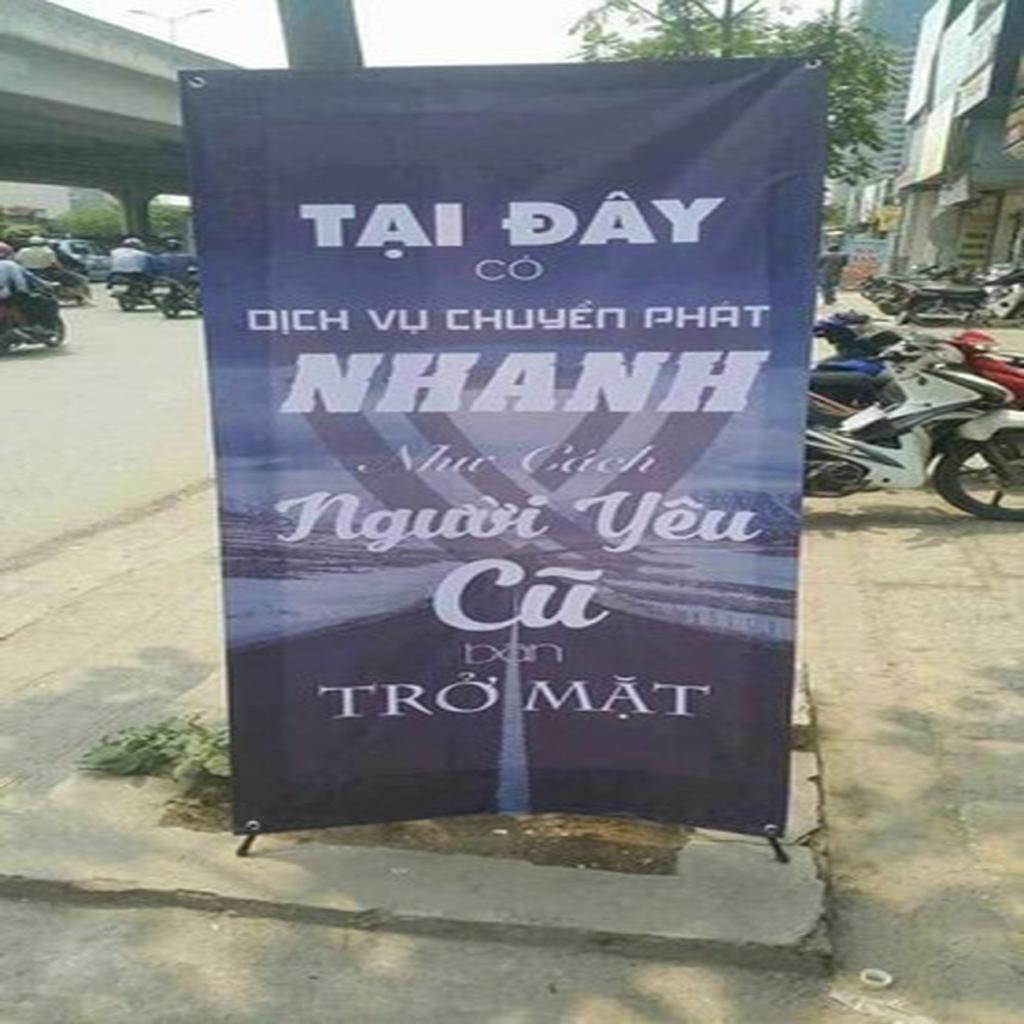text: (276, 346, 780, 416), (261, 488, 560, 556), (418, 556, 628, 636), (497, 187, 737, 250), (560, 490, 779, 556), (514, 672, 721, 725), (311, 668, 504, 724), (296, 200, 467, 262), (443, 297, 630, 333), (504, 440, 681, 477), (346, 442, 506, 478), (639, 298, 775, 332), (244, 306, 351, 338), (460, 640, 570, 667), (469, 252, 551, 285), (361, 306, 433, 337)
